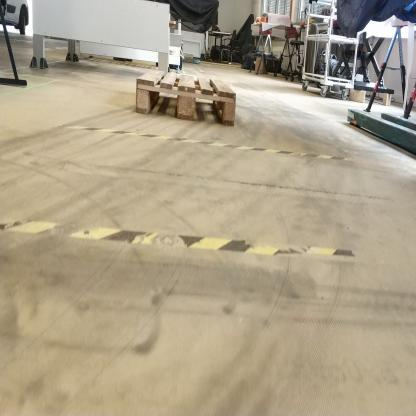BoxFace: (133, 65, 242, 130)
